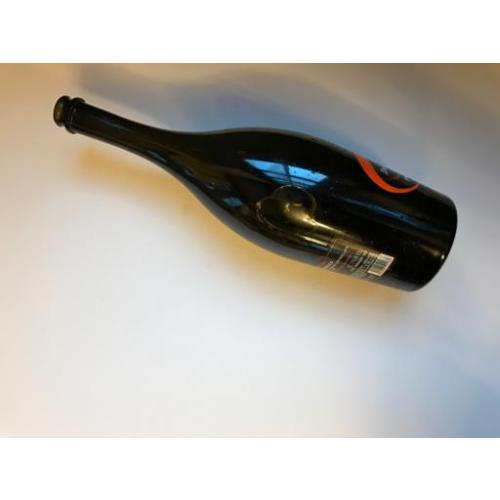glass: (84, 103, 459, 291)
